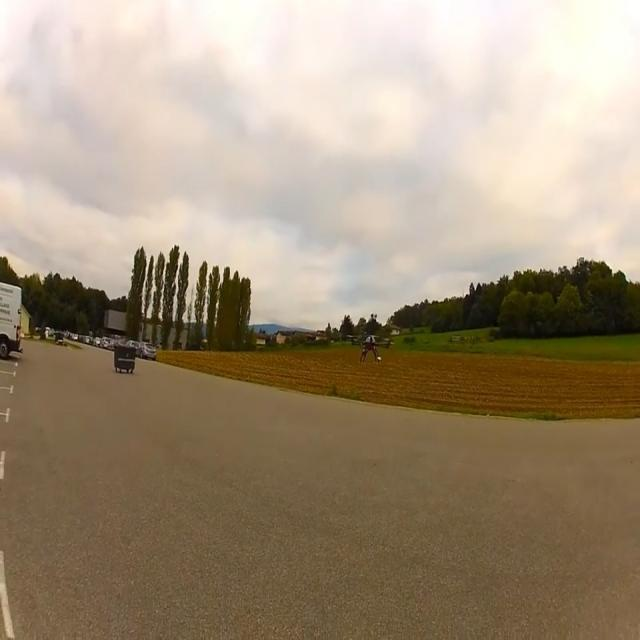drone: (346, 333, 394, 364)
